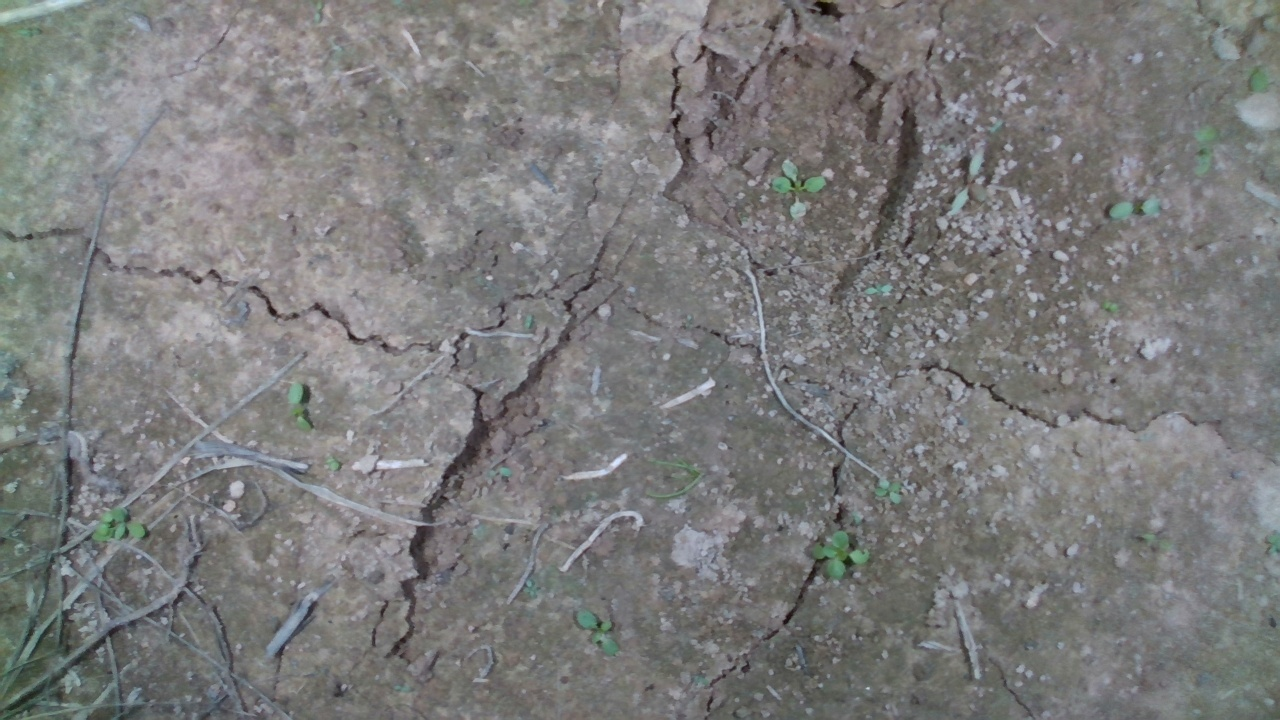weed: (769, 158, 828, 219), (949, 143, 985, 216), (575, 608, 620, 658), (1107, 194, 1164, 220), (287, 380, 313, 432), (873, 474, 903, 503), (327, 458, 341, 472)
